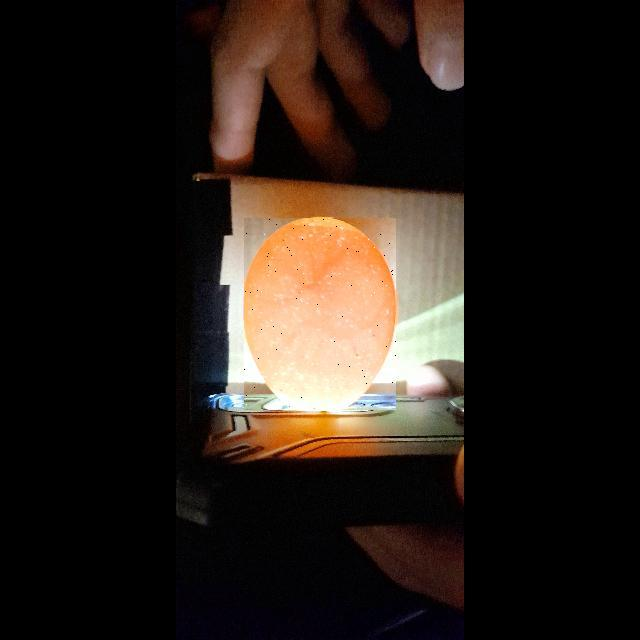Fertile: (244, 218, 396, 410)
